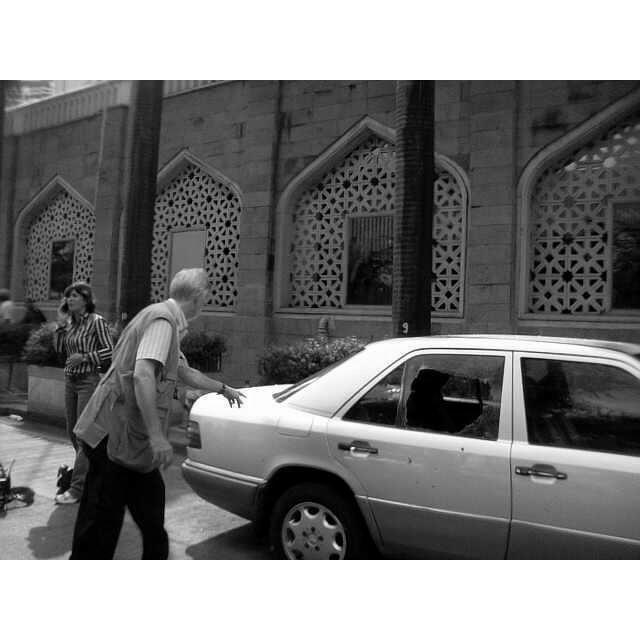doorouter-dent: (354, 349, 511, 551)
